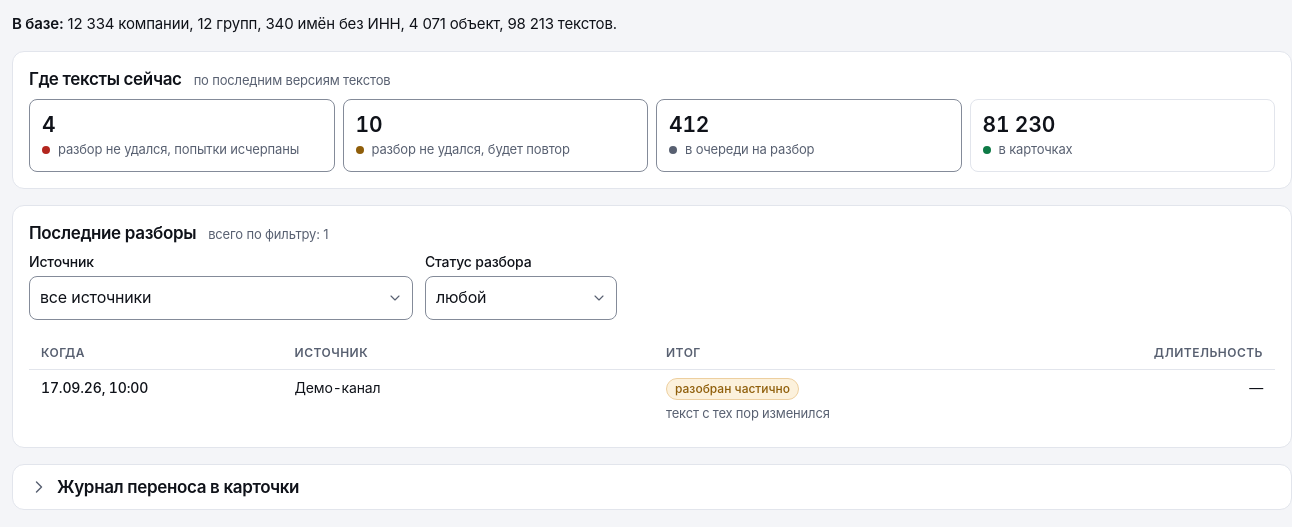
Test case: «Обработка»: список разборов › счётчик «в очереди на разбор» — фильтр списка по тому же правилу, что счётчик
This screenshot has width=1292, height=527.
Click the button "412 в очереди на разбор".
click(689, 125)  # box [656, 99, 962, 172]
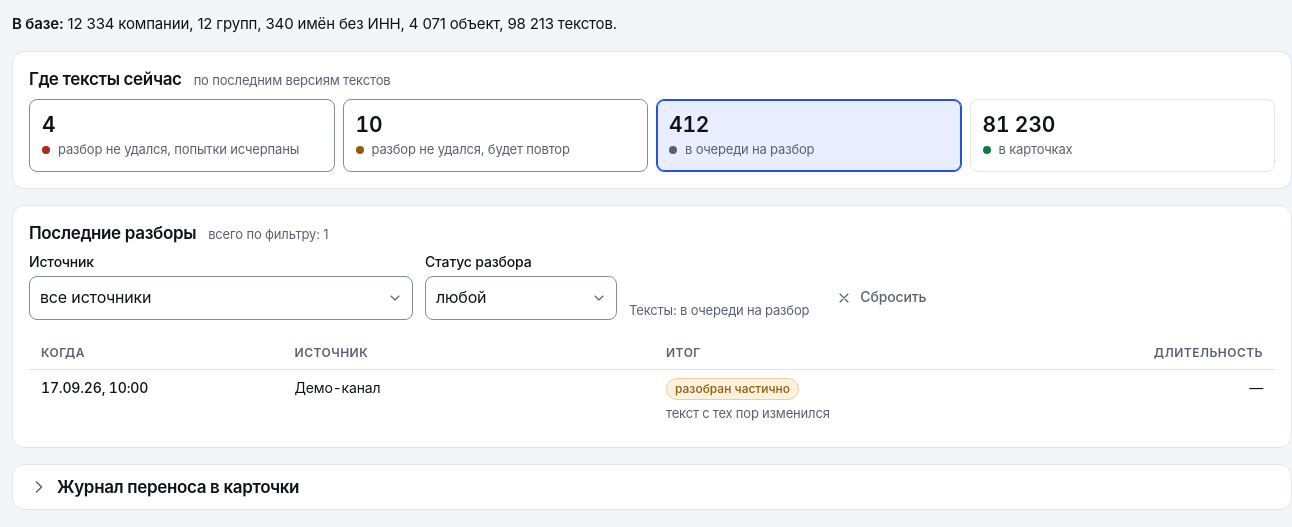
Expected: the text "Тексты: в очереди на разбор" is shown, [629, 300, 809, 320]
